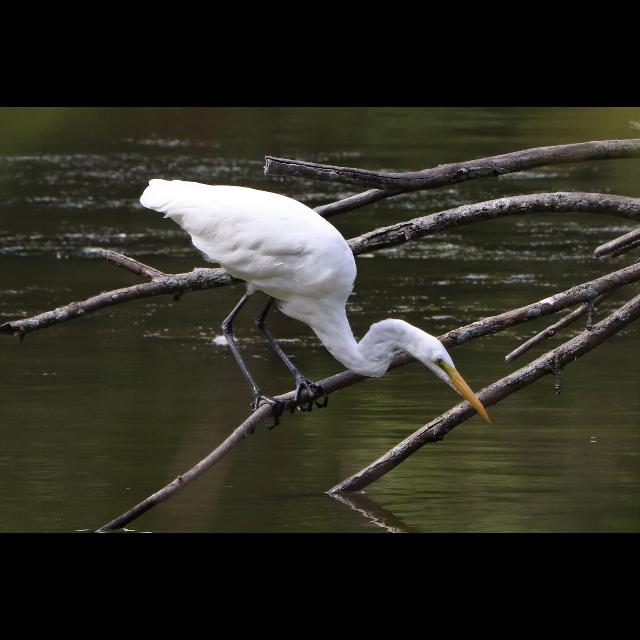egret: (121, 174, 495, 428)
